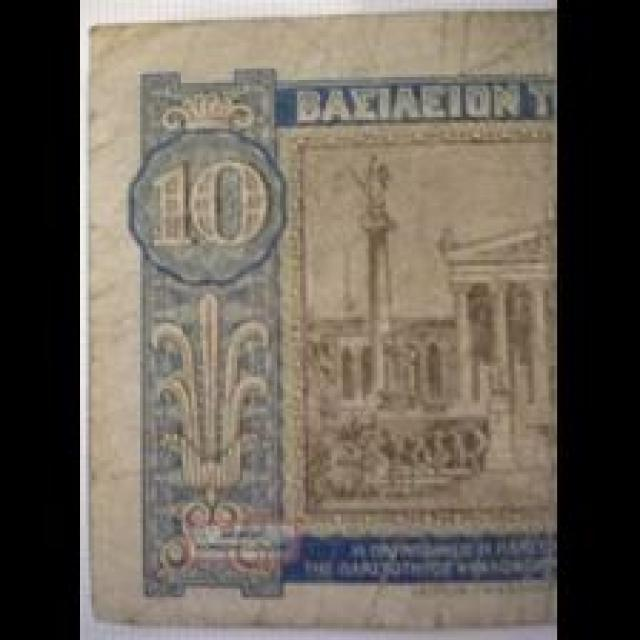banknote: (81, 8, 556, 628), (144, 153, 287, 261)
